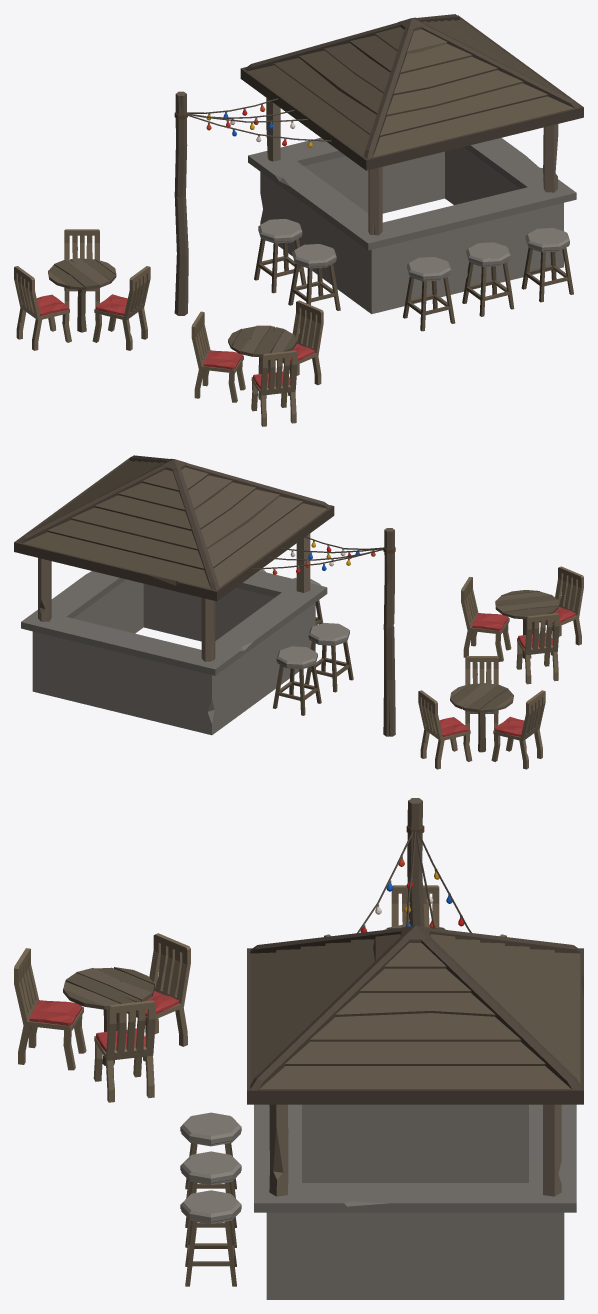
The model's file is SM_Bldg_City_Beach_Shop.fbx.
The picture shows the model from 3 angles, top to bottom: view 1: azimuth 30°, elevation 25°; view 2: azimuth 150°, elevation 25°; view 3: azimuth 270°, elevation 25°; orthographic projection. The views are drawn at different scales.
Parts seen in each view (by area): view 1: SM_Bldg_City_Beach_Shop; view 2: SM_Bldg_City_Beach_Shop; view 3: SM_Bldg_City_Beach_Shop.
Part boxes in pixels (left/top/right/bottom): SM_Bldg_City_Beach_Shop: left=14, top=14, right=583, bottom=426; SM_Bldg_City_Beach_Shop: left=14, top=455, right=583, bottom=769; SM_Bldg_City_Beach_Shop: left=14, top=798, right=583, bottom=1299.
Bounding box in the file's own units: 755 × 346 × 558.
